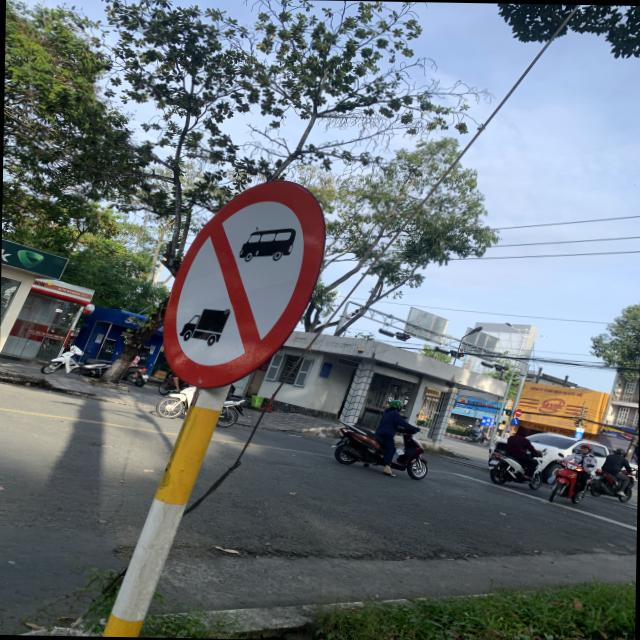Cam_XeTai_XeKhach: (158, 174, 329, 387)
